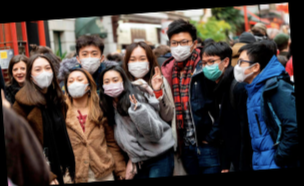with_mask: (170, 36, 194, 62), (79, 47, 102, 73), (101, 74, 125, 97), (201, 56, 224, 80), (127, 53, 149, 78), (231, 56, 251, 83), (31, 63, 52, 88), (67, 74, 89, 97)
without_mask: (12, 64, 29, 82)
